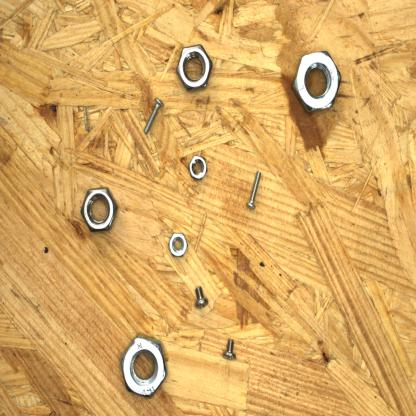screw: (243, 167, 265, 212), (142, 95, 166, 136), (192, 282, 212, 313), (219, 335, 239, 365)
